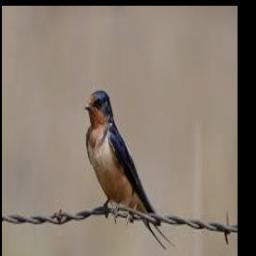Swallow: (84, 91, 175, 248)
